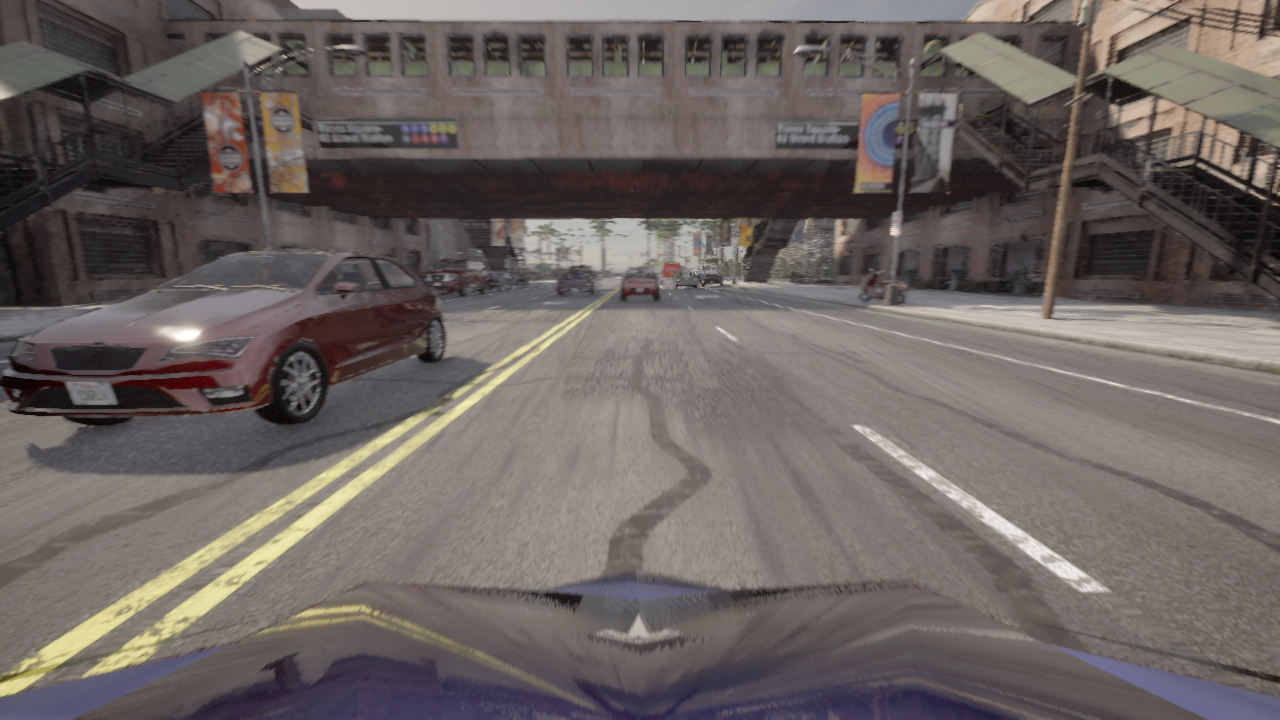cyclist: (0, 569, 1279, 719), (0, 248, 446, 425), (421, 258, 488, 296), (859, 268, 908, 304), (556, 265, 600, 295), (621, 267, 659, 300), (475, 272, 516, 291), (672, 270, 698, 288), (660, 263, 681, 283), (701, 270, 724, 286), (514, 274, 529, 286), (694, 269, 705, 281), (510, 273, 511, 274)
